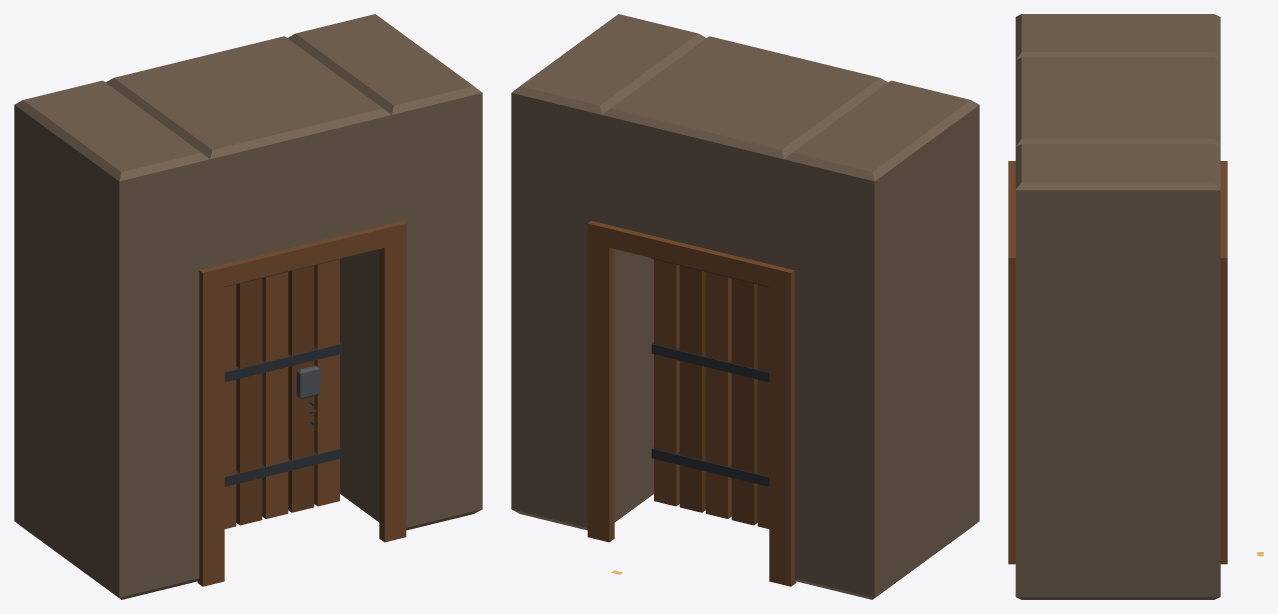
File: door_locked.fbx
The picture shows the model from 3 angles, left to right: view 1: azimuth 30°, elevation 25°; view 2: azimuth 150°, elevation 25°; view 3: azimuth 270°, elevation 25°; orthographic projection. The views are drawn at different scales.
Parts seen in each view (by area): view 1: door_locked, Door, Lock; view 2: door_locked, Door; view 3: door_locked.
Part boxes in pixels (x1,y1,x2,y2): door_locked: [14, 14, 482, 599]; Door: [224, 258, 342, 528]; Lock: [296, 365, 320, 425]; door_locked: [511, 14, 979, 599]; Door: [651, 258, 769, 528]; door_locked: [1008, 14, 1227, 599].
Size of the model in its own units: 4 by 4.62 by 2.49.
